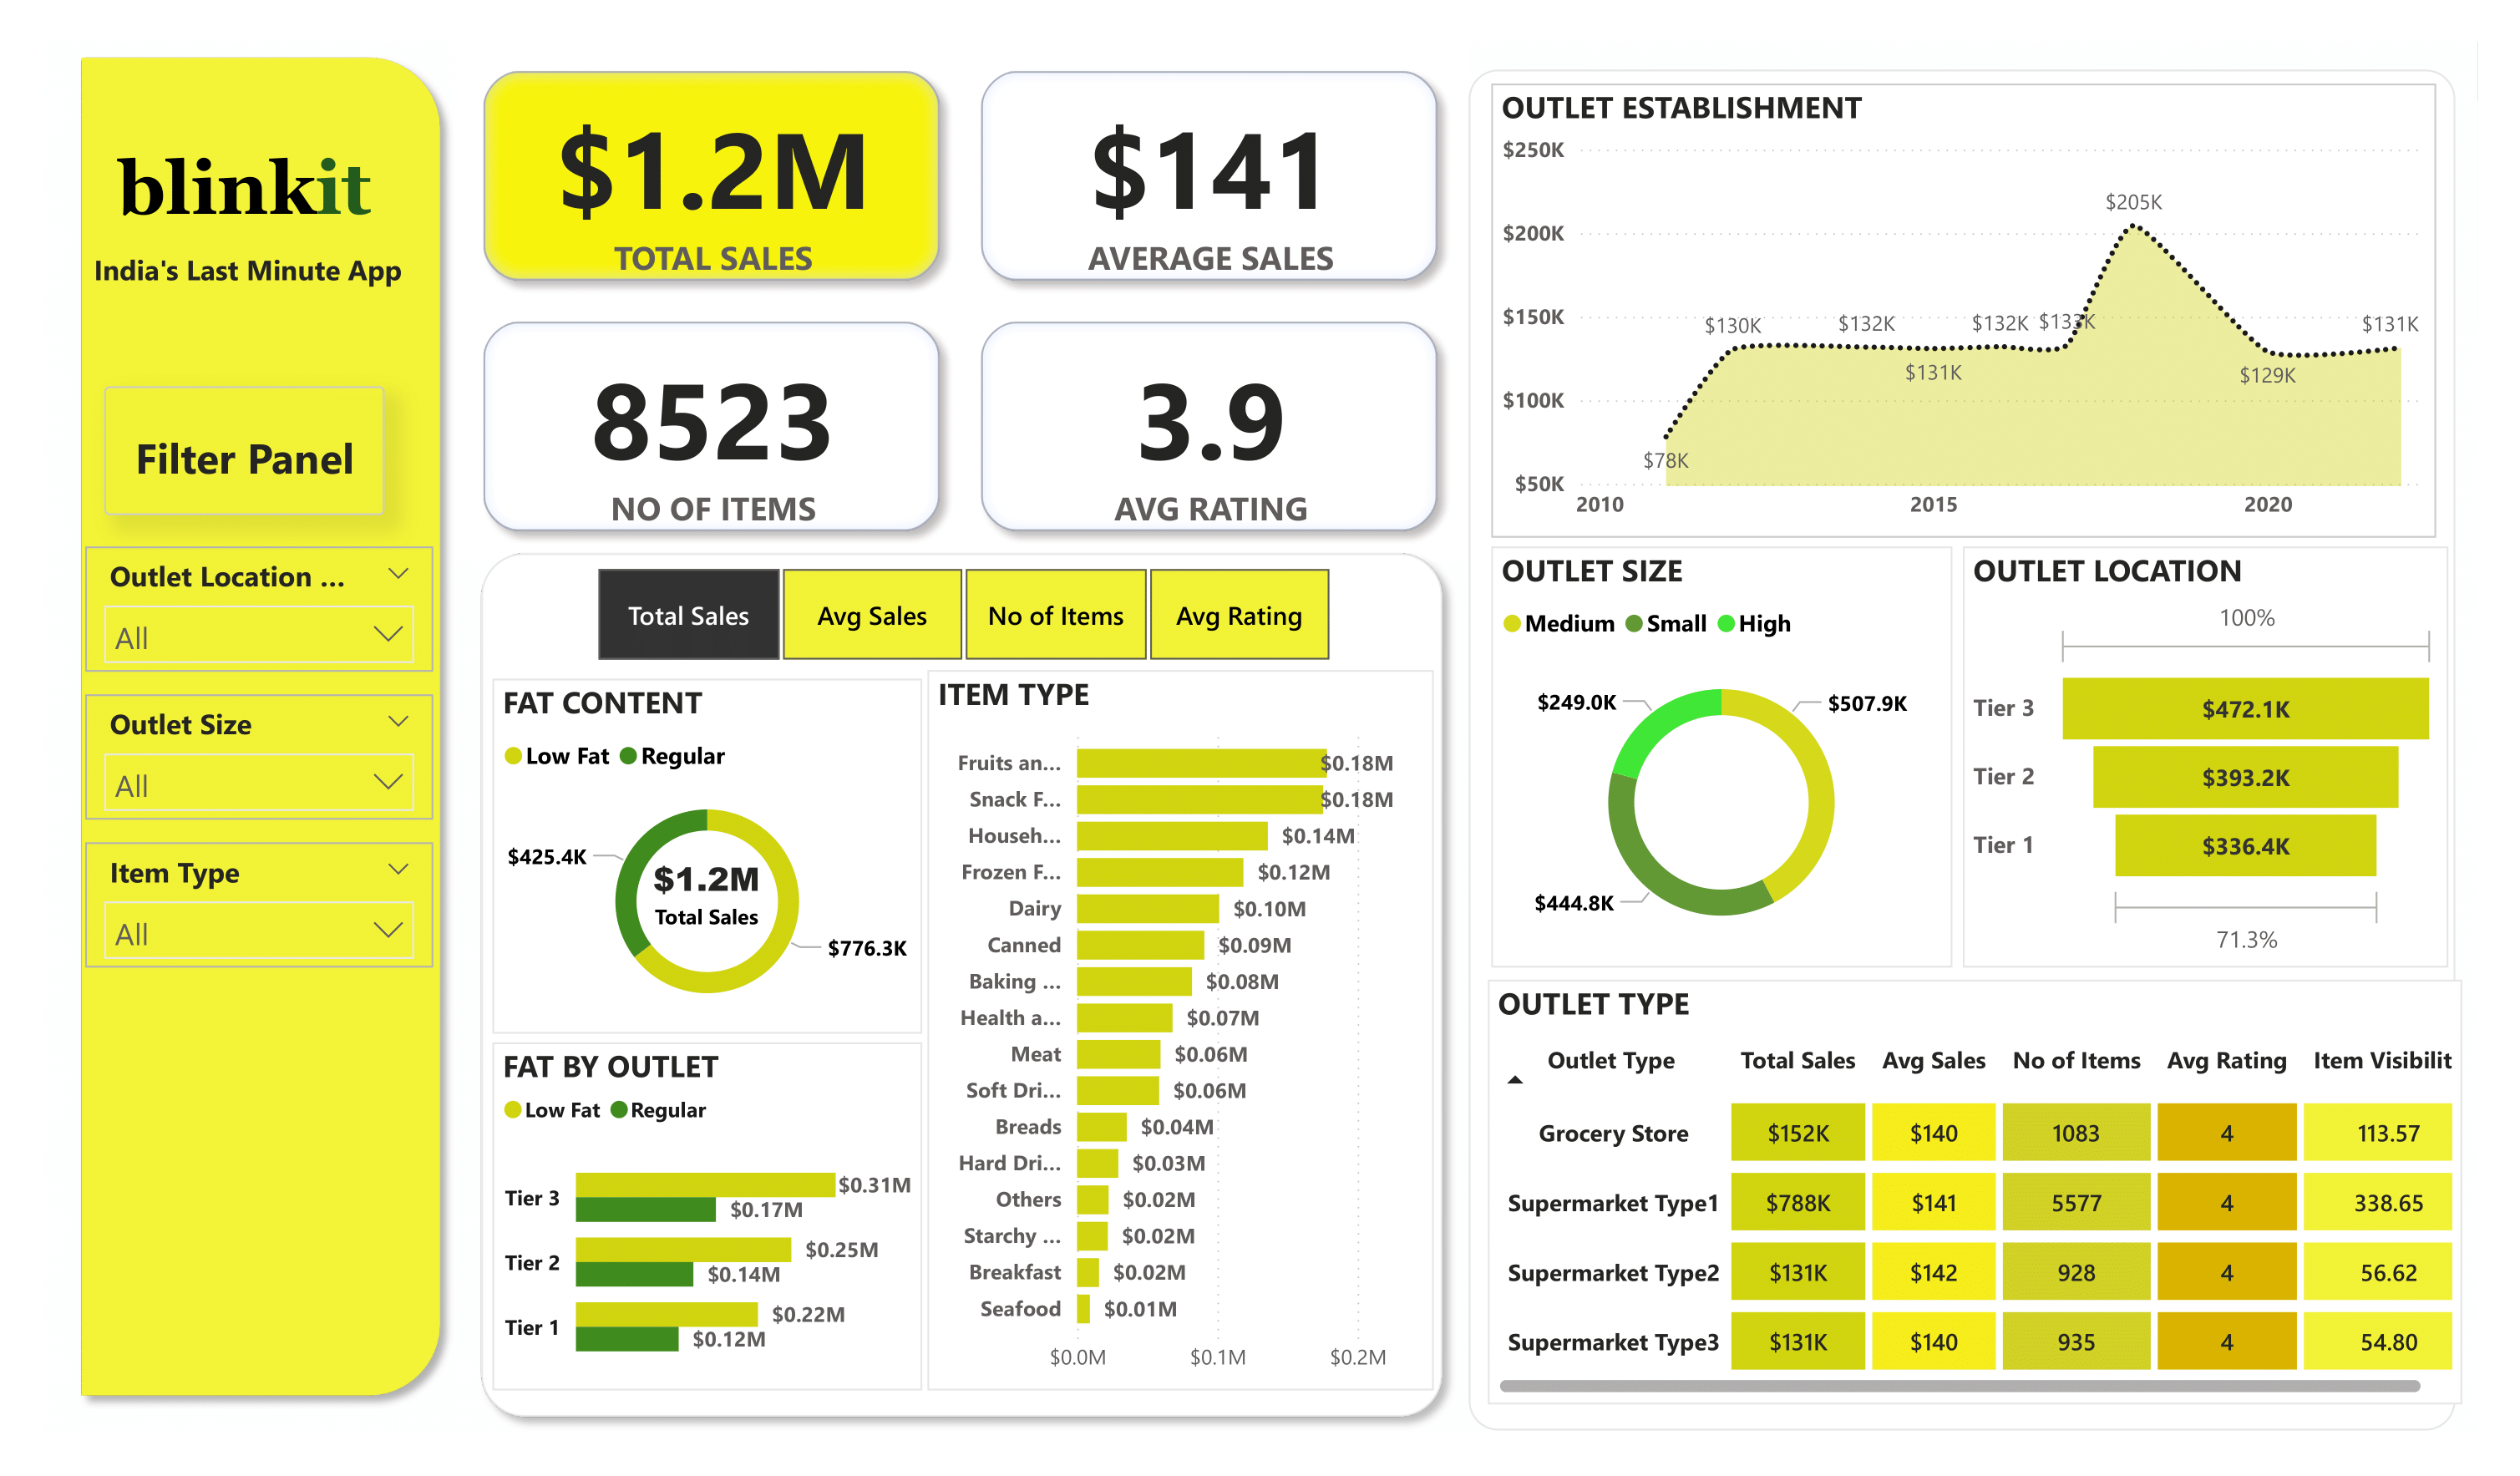

What the dashboard file says about the page in this screenshot:
{"tool":"powerbi","page":{"name":"Page 1","canvas":[1400,800],"ordinal":0},"visuals":[{"type":"shape","box":[14.2,0,223.6,787.4],"z":0},{"type":"textbox","box":[268.2,586.1,205.8,189.2],"z":1000},{"type":"textbox","box":[23.6,55.1,185.8,61.4],"z":2000},{"type":"textbox","box":[12.6,115,211,63],"z":3000},{"type":"cardVisual","fields":{"Data":["BlinkIT Grocery Data.Total Sales","BlinkIT Grocery Data.Average Sales","BlinkIT Grocery Data.No of Items","BlinkIT Grocery Data.Avg Rating"]},"box":[237,0,582.4,299.5],"z":4000},{"type":"shape","box":[244.4,284.8,569.6,514.4],"z":5000},{"type":"donutChart","title":"FAT CONTENT","fields":{"Y":["BlinkIT Grocery Data.Total Sales"],"Category":["BlinkIT Grocery Data.Item Fat Content"]},"box":[258.9,365.7,246.9,204.2],"z":6000},{"type":"slicer","fields":{"Values":["Metrics.Metrics"]},"box":[294.5,296.1,469.3,66.1],"z":7000},{"type":"cardVisual","fields":{"Data":["BlinkIT Grocery Data.Total Sales"]},"box":[321.3,450.4,122.8,69.3],"z":8000},{"type":"clusteredBarChart","title":"FAT BY OUTLET","fields":{"Y":["BlinkIT Grocery Data.Total Sales"],"Series":["BlinkIT Grocery Data.Item Fat Content"],"Category":["BlinkIT Grocery Data.Outlet Location Type"]},"box":[258.9,575.2,246.9,200.2],"z":9000},{"type":"barChart","title":" ITEM TYPE","fields":{"Y":["BlinkIT Grocery Data.Total Sales"],"Category":["BlinkIT Grocery Data.Item Type"]},"box":[508.7,360.6,291.3,414.2],"z":10000},{"type":"shape","box":[820.5,15.7,566.9,782.7],"z":11000},{"type":"lineChart","title":"OUTLET ESTABLISHMENT","fields":{"Y":["BlinkIT Grocery Data.Total Sales"],"Category":["BlinkIT Grocery Data.Outlet Establishment Year"]},"box":[833.1,23.6,543.3,261.4],"z":12000},{"type":"donutChart","title":"OUTLET SIZE","fields":{"Y":["BlinkIT Grocery Data.Total Sales"],"Category":["BlinkIT Grocery Data.Outlet Size"]},"box":[833.1,289.8,264.6,242.5],"z":13000},{"type":"funnel","title":"OUTLET LOCATION","fields":{"Y":["BlinkIT Grocery Data.Total Sales"],"Category":["BlinkIT Grocery Data.Outlet Location Type"]},"box":[1103.9,289.8,278.7,242.5],"z":14000},{"type":"pivotTable","title":"OUTLET TYPE","fields":{"Rows":["BlinkIT Grocery Data.Outlet Type"],"Values":["BlinkIT Grocery Data.Total Sales","BlinkIT Grocery Data.Avg Sales","BlinkIT Grocery Data.No of Items","BlinkIT Grocery Data.Avg Rating","Sum(BlinkIT Grocery Data.Item Visibility)"]},"box":[831.5,538.6,559.1,244.1],"z":15000},{"type":"slicer","fields":{"Values":["BlinkIT Grocery Data.Outlet Location Type"]},"box":[25.2,289.8,200,72.4],"z":15001},{"type":"slicer","fields":{"Values":["BlinkIT Grocery Data.Outlet Size"]},"box":[25.2,374.8,200,72.4],"z":15002},{"type":"slicer","fields":{"Values":["BlinkIT Grocery Data.Item Type"]},"box":[25.2,459.8,200,72.4],"z":15003},{"type":"textbox","box":[36.2,198.4,160.6,74],"z":15004}]}

Visuals, with their boxes in screenshot pixels (x1, y1, x2, y2):
shape: box(67, 42, 455, 1413)
textbox: box(509, 1062, 867, 1392)
textbox: box(83, 138, 406, 245)
textbox: box(63, 242, 431, 352)
cardVisual - BlinkIT Grocery Data.Total Sales x BlinkIT Grocery Data.Average Sales: box(454, 42, 1468, 563)
shape: box(467, 537, 1458, 1433)
"FAT CONTENT" donutChart: box(492, 678, 922, 1034)
slicer - Metrics.Metrics: box(555, 557, 1371, 672)
cardVisual - BlinkIT Grocery Data.Total Sales: box(601, 826, 814, 946)
"FAT BY OUTLET" clusteredBarChart: box(492, 1043, 922, 1392)
" ITEM TYPE" barChart: box(927, 669, 1434, 1390)
shape: box(1470, 69, 2457, 1432)
"OUTLET ESTABLISHMENT" lineChart: box(1492, 83, 2437, 538)
"OUTLET SIZE" donutChart: box(1492, 546, 1952, 968)
"OUTLET LOCATION" funnel: box(1963, 546, 2448, 968)
"OUTLET TYPE" pivotTable: box(1488, 979, 2462, 1404)
slicer - BlinkIT Grocery Data.Outlet Location Type: box(86, 546, 434, 672)
slicer - BlinkIT Grocery Data.Outlet Size: box(86, 694, 434, 820)
slicer - BlinkIT Grocery Data.Item Type: box(86, 842, 434, 968)
textbox: box(104, 387, 384, 516)
